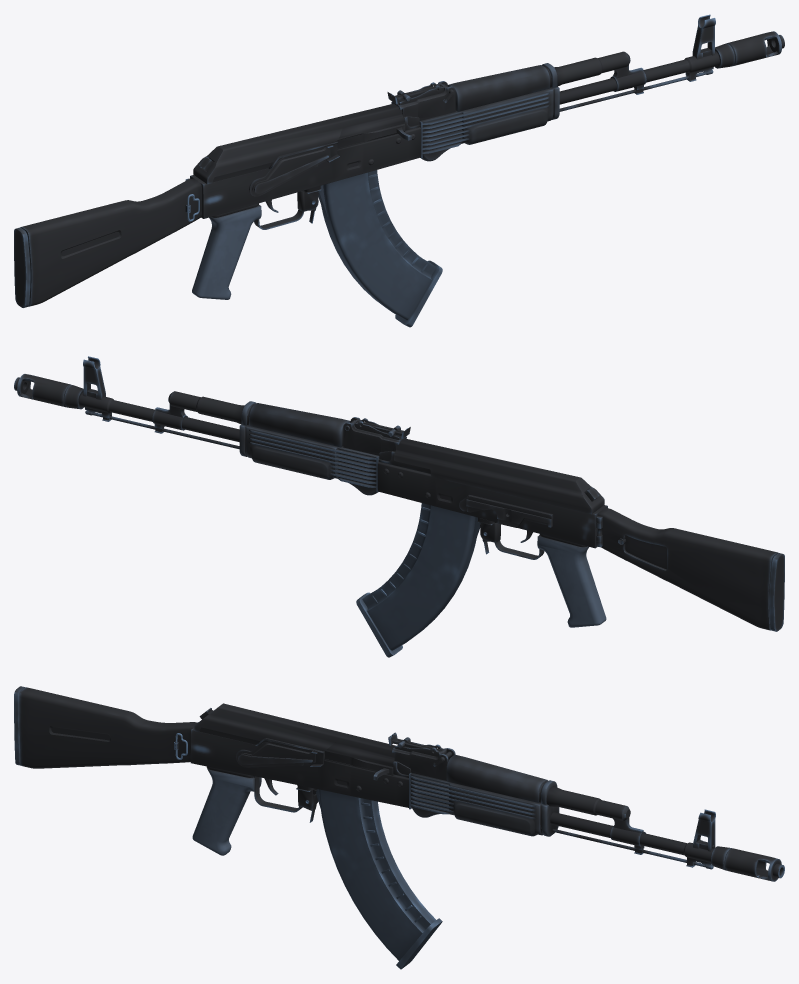
File: Mid_Bruiser.glb
3 renders of one model, top to bottom at view 1: azimuth 30°, elevation 25°; view 2: azimuth 150°, elevation 25°; view 3: azimuth 330°, elevation 25°, orthographic. The views are drawn at different scales.
Visible parts, largest first — view 1: wrap; view 2: wrap; view 3: wrap.
Part boxes in pixels (x1,y1,x2,y2): wrap: (14, 14, 784, 327); wrap: (14, 356, 784, 657); wrap: (14, 686, 784, 969).
Size of the model in its own units: 4.83 by 1.39 by 0.3062.
Materials: 7 (7 with a texture image).
